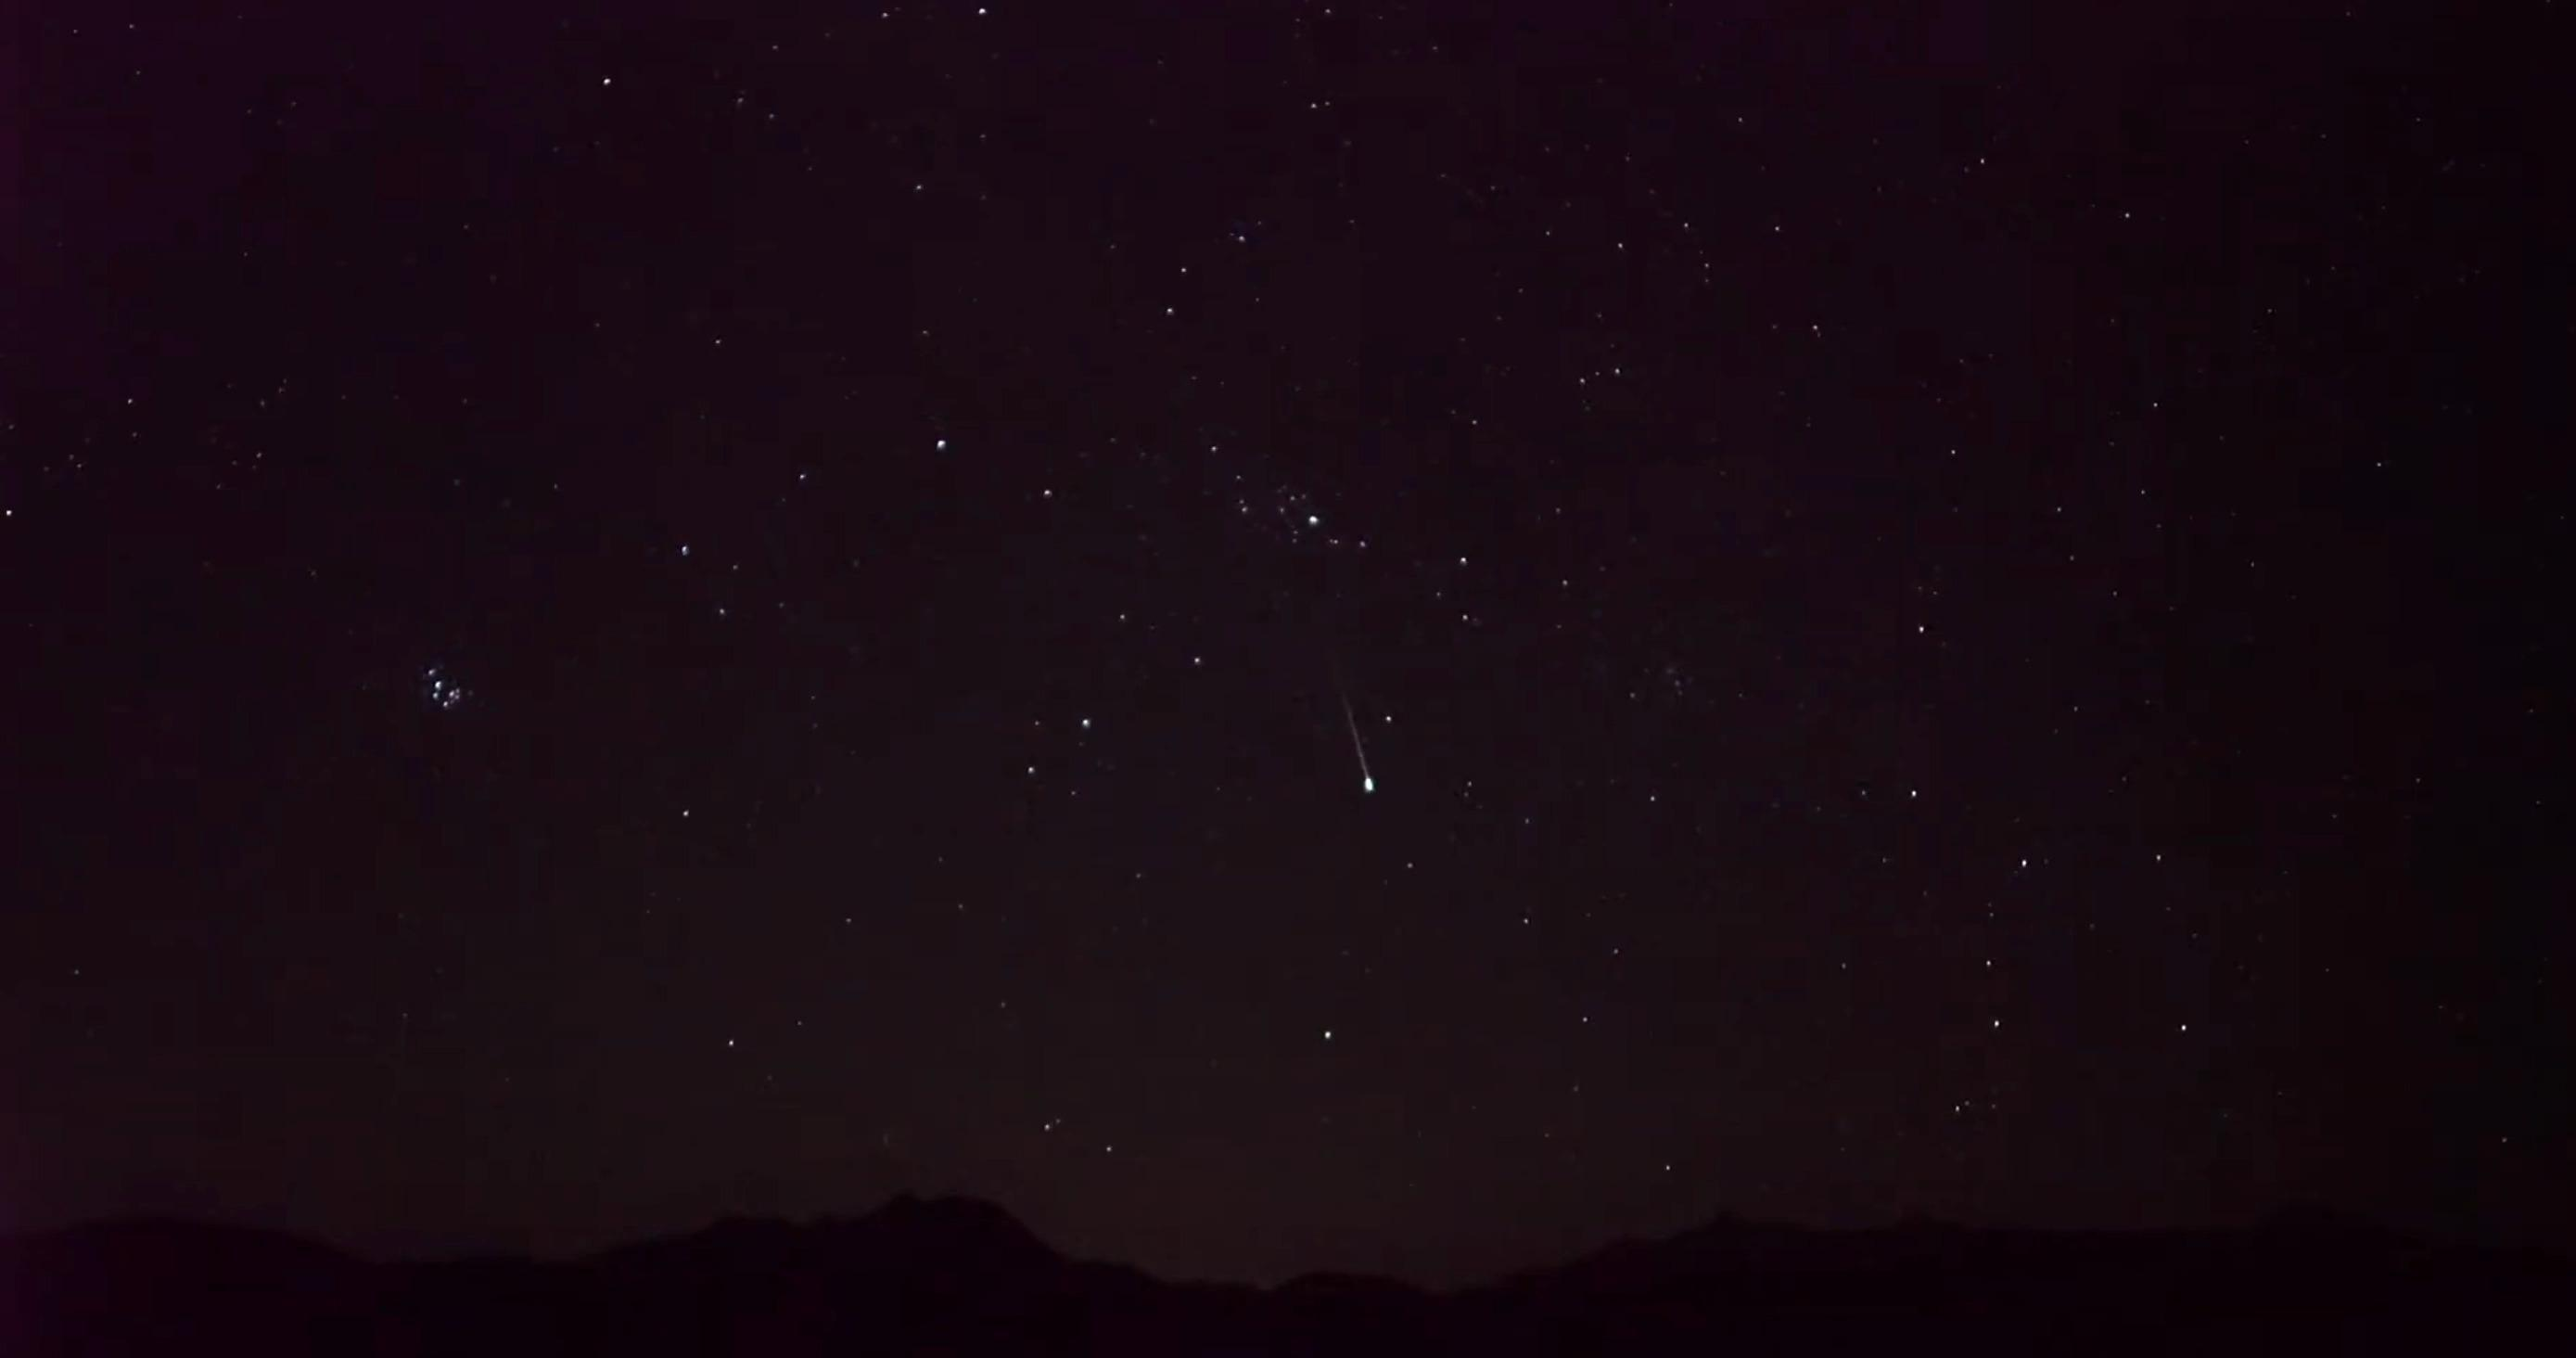meteorite: (1291, 680, 1419, 806)
